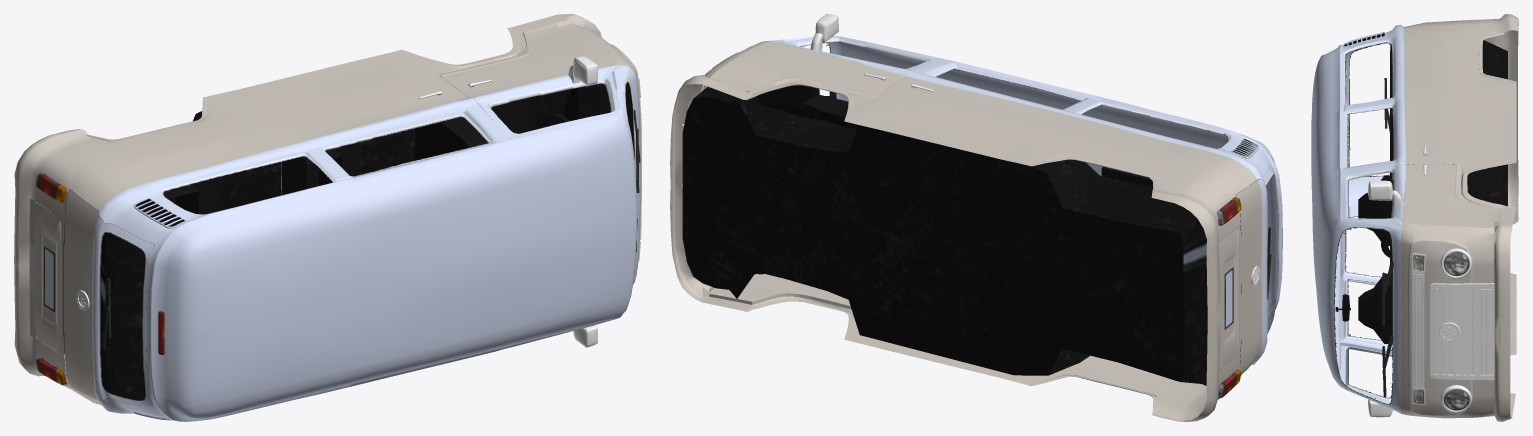
The model's file is van_chassis_cream.obj.
The picture shows the model from 3 angles, left to right: view 1: azimuth 30°, elevation 25°; view 2: azimuth 150°, elevation 25°; view 3: azimuth 270°, elevation 25°; orthographic projection. The views are drawn at different scales.
Visible parts, largest first — view 1: Volks_Van_Chassis_0416; view 2: Volks_Van_Chassis_0416; view 3: Volks_Van_Chassis_0416.
Boxes of the visible parts, box(x1,y1,x2,y2) form: Volks_Van_Chassis_0416: box(14, 14, 641, 421); Volks_Van_Chassis_0416: box(670, 14, 1282, 421); Volks_Van_Chassis_0416: box(1311, 14, 1518, 421).
Bounding box in the file's own units: 4.8 × 2.22 × 1.79.
Materials: 2 (2 with a texture image).
